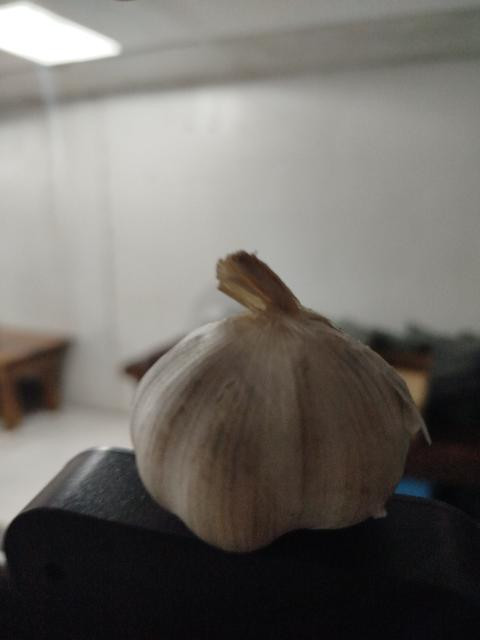garlic: (128, 249, 432, 553)
